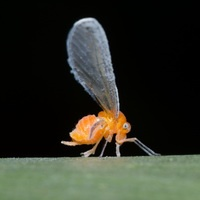insect: (61, 18, 159, 156)
